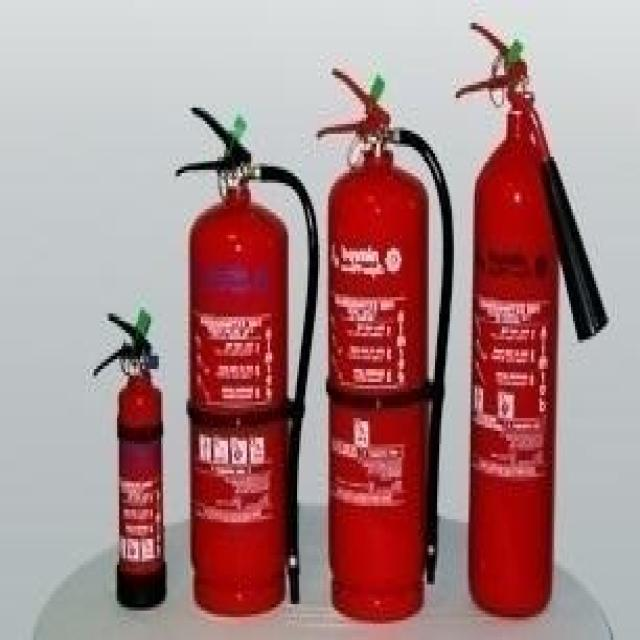fire_extinguisher: (449, 14, 608, 618), (312, 60, 454, 622), (167, 98, 320, 614), (89, 302, 170, 612)
